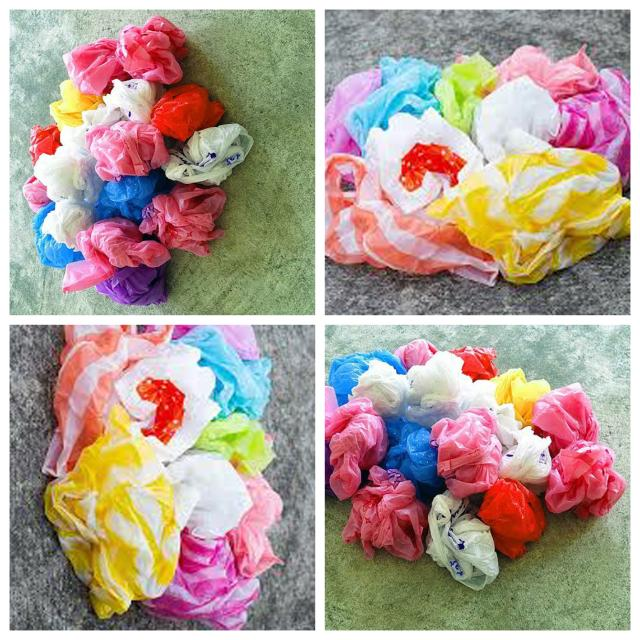Single-layer Plastic: (45, 405, 180, 619), (429, 149, 630, 284), (325, 154, 499, 285), (42, 325, 172, 478), (531, 382, 626, 518), (365, 109, 484, 214), (115, 344, 220, 462), (144, 529, 260, 630), (550, 69, 630, 187), (351, 351, 472, 428), (345, 56, 441, 151), (175, 325, 271, 419), (342, 466, 429, 560), (62, 218, 171, 292), (166, 450, 252, 538), (472, 76, 560, 161), (426, 491, 499, 590), (34, 145, 102, 249), (325, 398, 389, 499), (139, 182, 226, 256), (545, 440, 626, 518), (496, 45, 599, 101), (228, 474, 282, 578), (162, 124, 254, 185), (478, 479, 546, 558), (435, 52, 498, 134), (116, 15, 188, 84), (325, 69, 381, 157), (496, 404, 551, 492), (329, 349, 406, 406), (151, 84, 224, 141), (95, 170, 174, 222), (62, 38, 130, 96), (82, 79, 158, 126), (32, 201, 84, 269), (349, 359, 409, 417), (491, 368, 551, 426), (95, 264, 168, 306), (451, 346, 499, 381), (22, 176, 51, 212)
